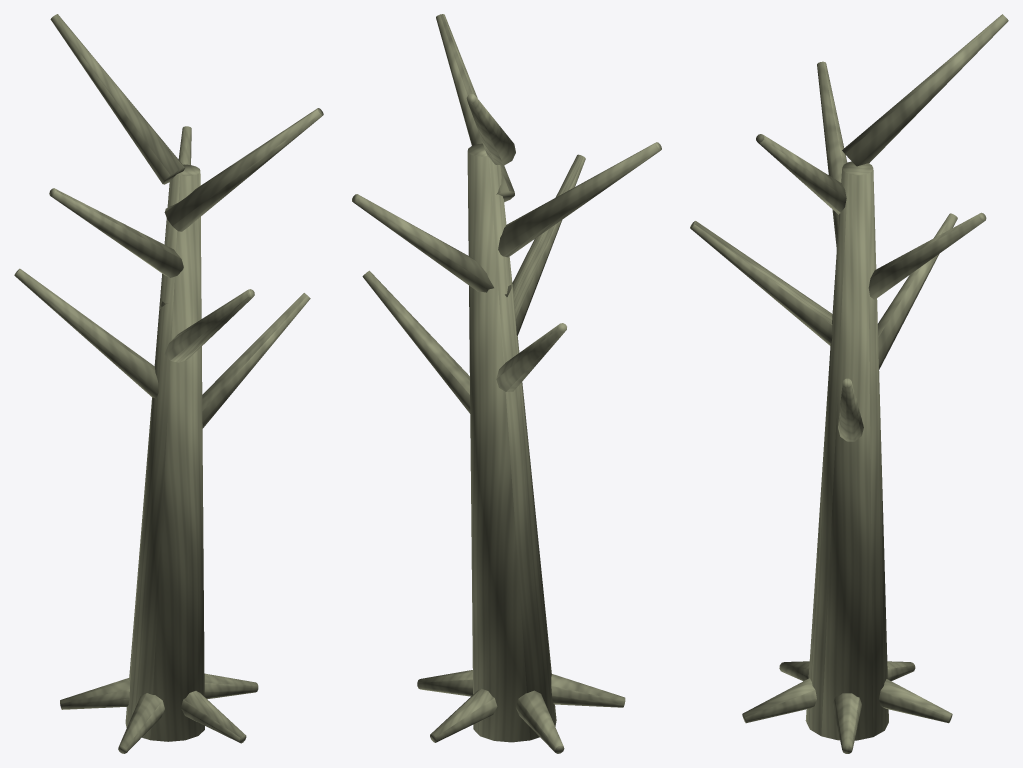
File: beech_dead.glb
3 views of the same model, side by side, from view 1: azimuth 30°, elevation 25°; view 2: azimuth 150°, elevation 25°; view 3: azimuth 270°, elevation 25° (orthographic). The views are drawn at different scales.
Parts seen in each view (by area): view 1: beech_dead.001; view 2: beech_dead.001; view 3: beech_dead.001.
Boxes of the visible parts, box(x1,y1,x2,y2) form: beech_dead.001: box(14, 14, 323, 753); beech_dead.001: box(352, 14, 661, 753); beech_dead.001: box(690, 14, 1008, 753).
Size of the model in its own units: 3.75 by 8.8 by 3.67.
1 material, 1 textured.
